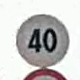limite 40: (15, 11, 69, 68)
